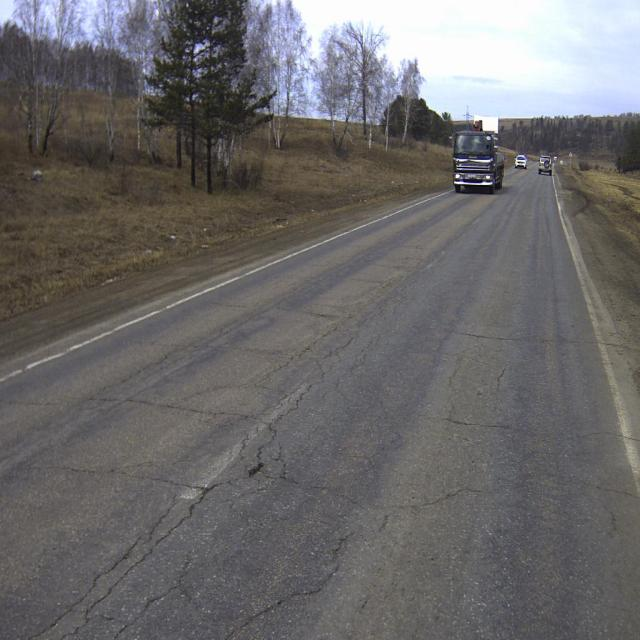road: (0, 162, 640, 639)
